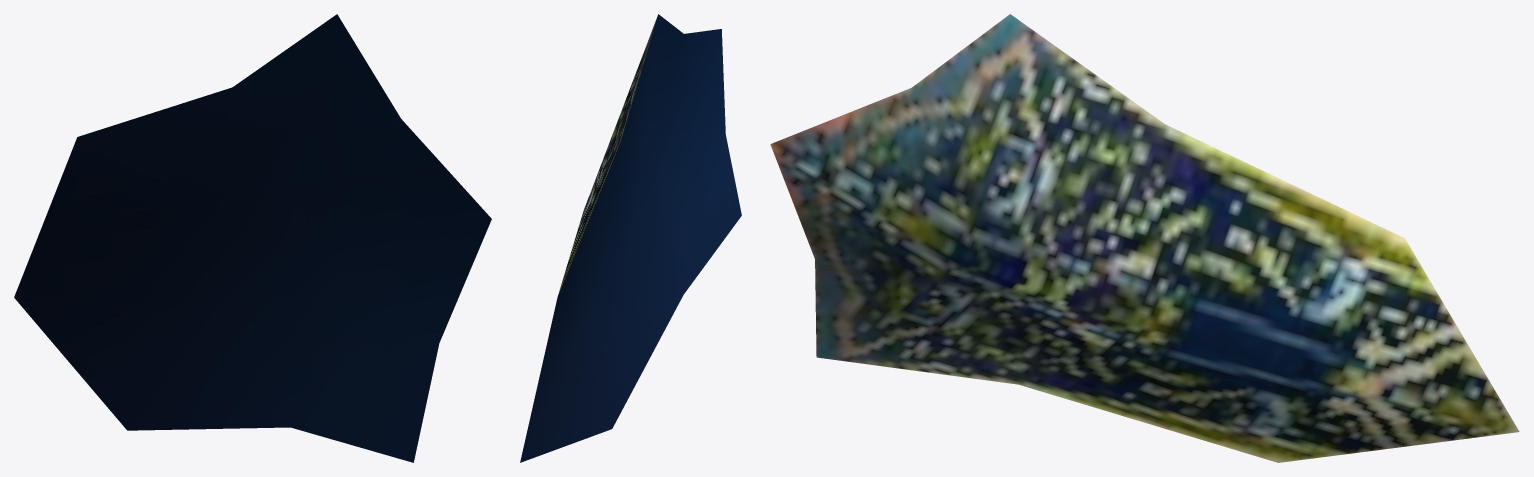
Rendered from Shield09.glb.
3 renders of one model, left to right at view 1: azimuth 30°, elevation 25°; view 2: azimuth 150°, elevation 25°; view 3: azimuth 270°, elevation 25°, orthographic. The views are drawn at different scales.
Visible parts, largest first — view 1: model_Shield09; view 2: model_Shield09; view 3: model_Shield09.
Boxes of the visible parts, x1,y1,x2,y2 form: model_Shield09: [14, 14, 491, 462]; model_Shield09: [520, 14, 741, 462]; model_Shield09: [770, 14, 1519, 462].
Bounding box in the file's own units: 0.1975 × 0.6224 × 0.8769.
1 material, 1 textured.
